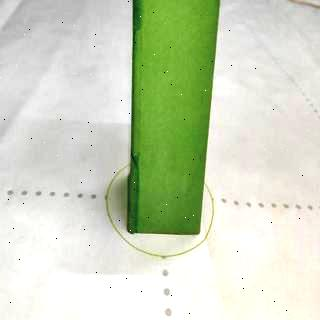greenbox: (132, 0, 202, 233)
